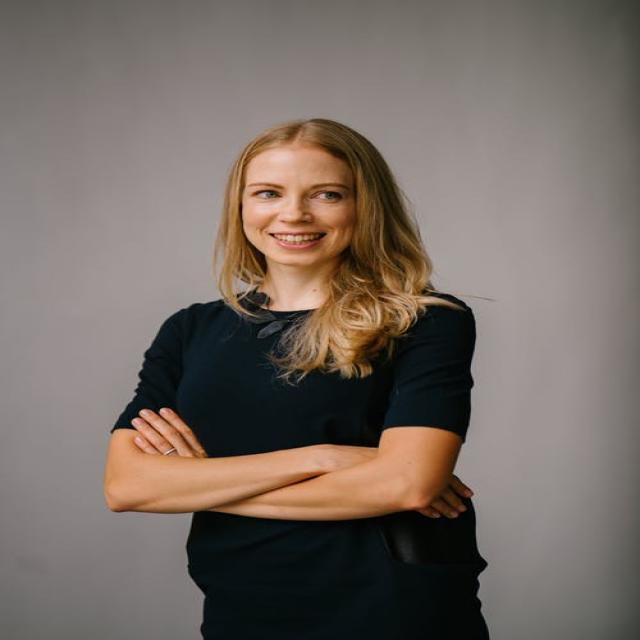mobile_phonerotation: (102, 117, 493, 636)
